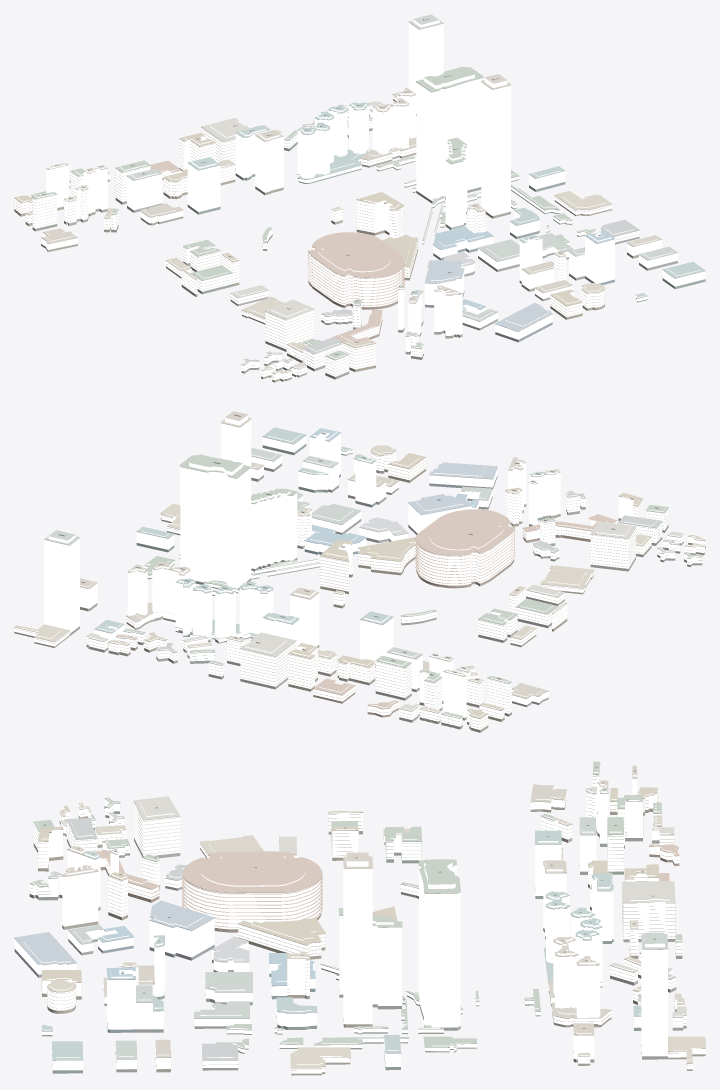
The model's file is buildings--9_0-fine.glb.
The picture shows the model from 3 angles, top to bottom: view 1: azimuth 30°, elevation 25°; view 2: azimuth 150°, elevation 25°; view 3: azimuth 270°, elevation 25°; orthographic projection. The views are drawn at different scales.
Parts seen in each view (by area): view 1: block_-9_0_office, block_-9_0_roof, block_-9_0_residential, block_-9_0_darkglass, block_-9_0_concrete, block_-9_0_steel; view 2: block_-9_0_office, block_-9_0_roof, block_-9_0_residential, block_-9_0_darkglass, block_-9_0_concrete, block_-9_0_steel; view 3: block_-9_0_roof, block_-9_0_office, block_-9_0_residential, block_-9_0_darkglass, block_-9_0_concrete, block_-9_0_steel.
Boxes of the visible parts, x1,y1,x2,y2 form: block_-9_0_office: (41,19,705,339); block_-9_0_roof: (14,14,705,373); block_-9_0_residential: (14,95,647,380); block_-9_0_darkglass: (14,99,705,382); block_-9_0_concrete: (14,94,647,377); block_-9_0_steel: (41,22,705,331); block_-9_0_office: (44,415,560,717); block_-9_0_roof: (14,411,705,728); block_-9_0_residential: (14,449,705,729); block_-9_0_darkglass: (14,444,705,732); block_-9_0_concrete: (14,450,705,727); block_-9_0_steel: (44,419,560,698); block_-9_0_roof: (14,761,705,1073); block_-9_0_office: (14,775,667,1070); block_-9_0_residential: (29,764,705,1073); block_-9_0_darkglass: (14,800,705,1075); block_-9_0_concrete: (30,763,705,1070); block_-9_0_steel: (14,778,667,1060).
Size of the model in its own units: 657 by 181 by 683.
